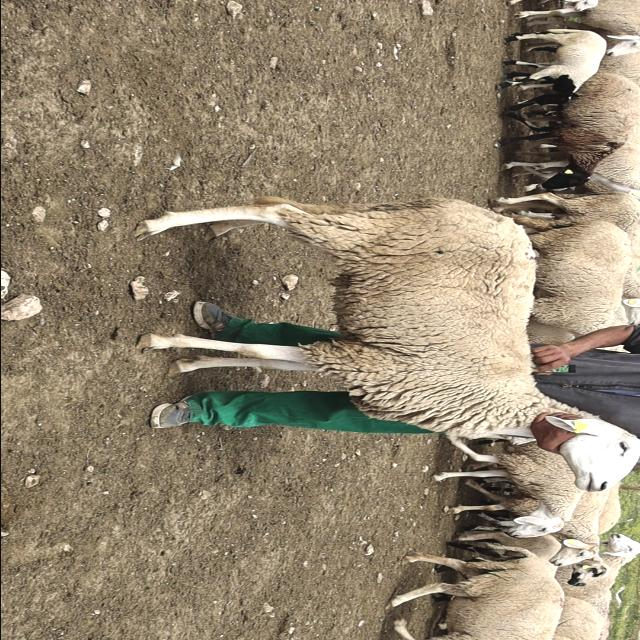Score_1: (134, 197, 640, 492)
